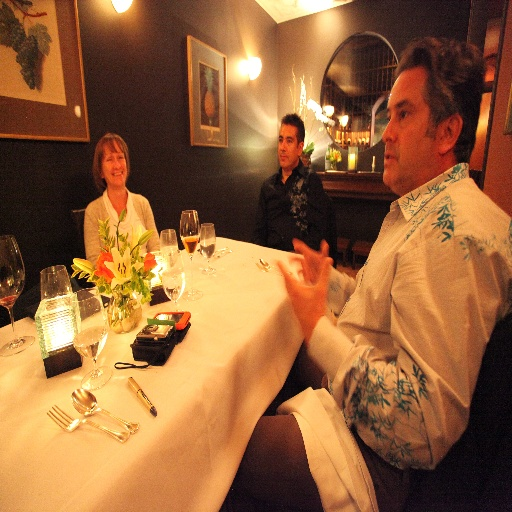hand: (286, 244, 343, 344), (294, 239, 328, 284)
